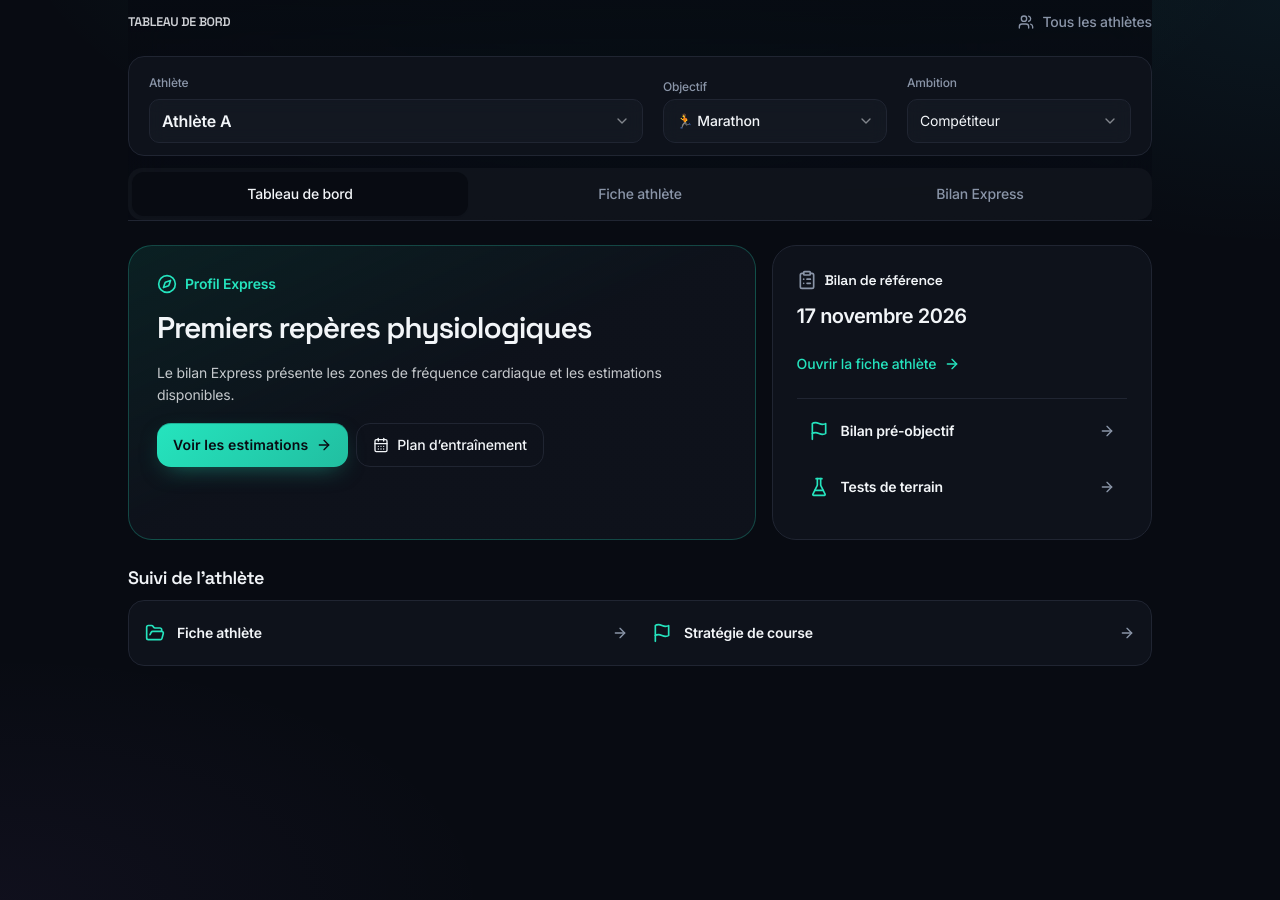
Test: Accueil coach › ouvre le bilan Express et garde ses estimations distinctes des priorités du Compass
Click the link "Voir les estimations" at (253, 445), box top-left (157, 423), bottom-right (348, 467)
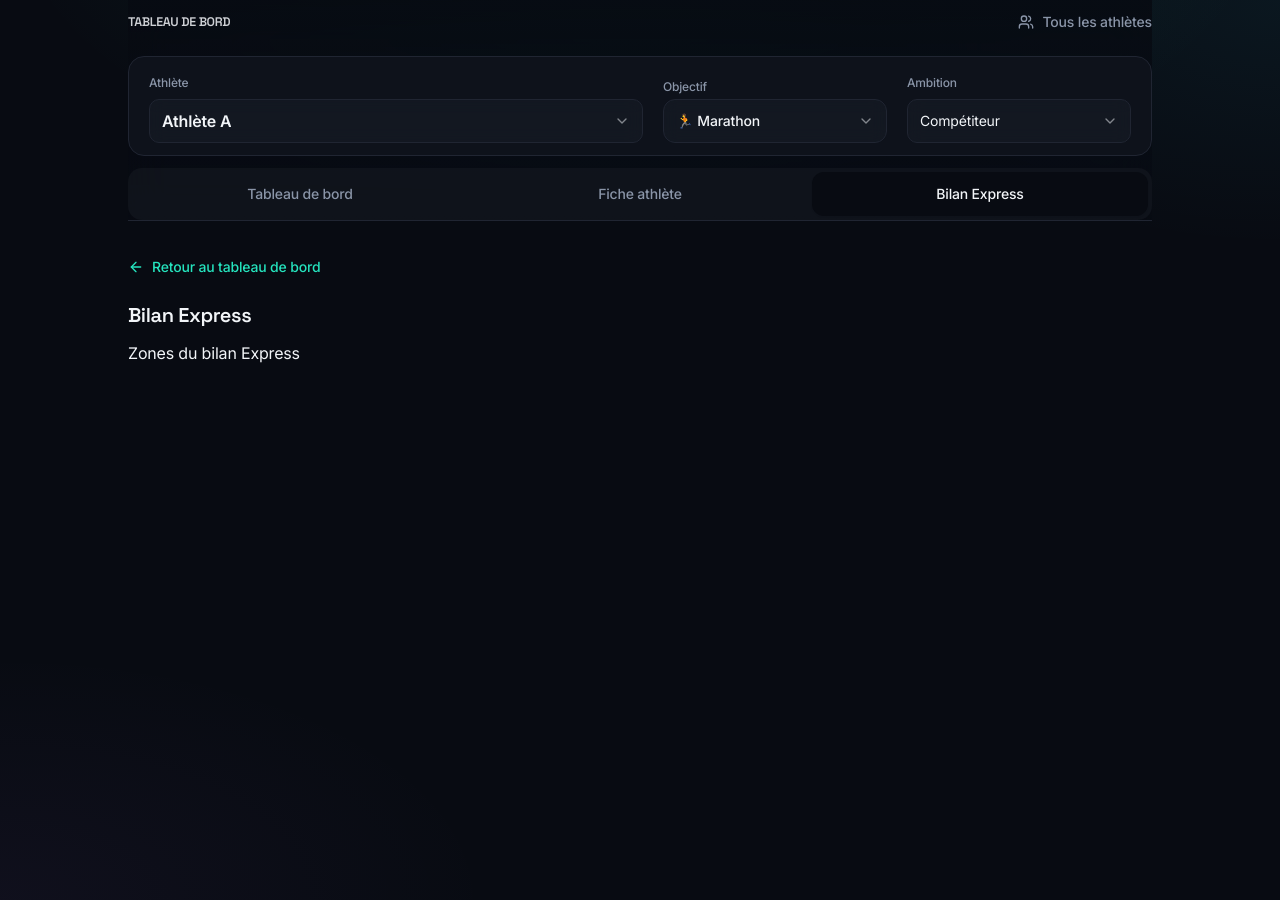
Result: the text "Zones du bilan Express" is shown at top-left (128, 343), bottom-right (300, 363)
